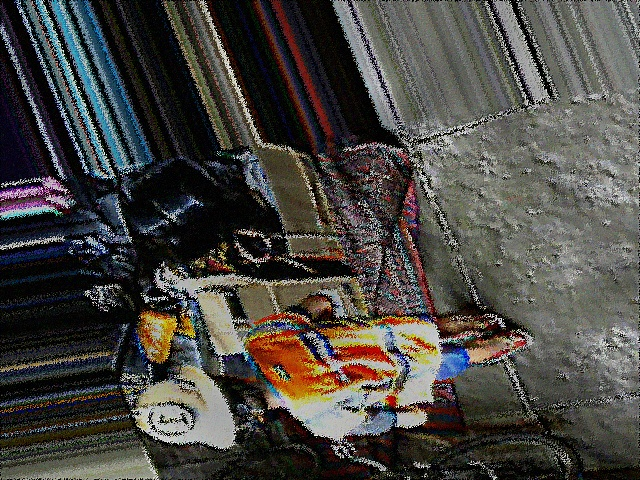one: (141, 401, 197, 439)
